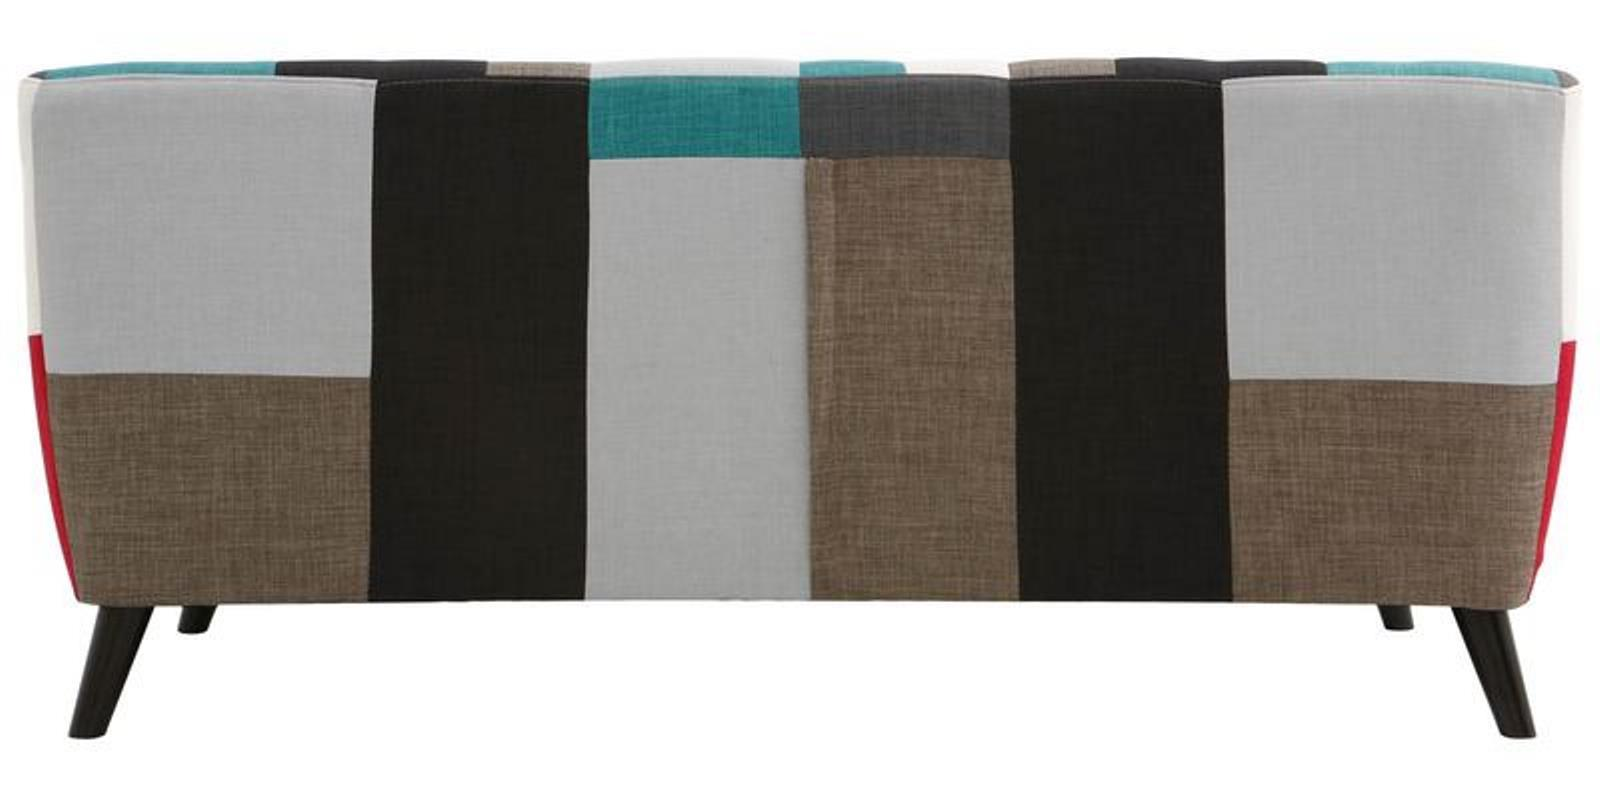Frida Three Seater Sofa in Red Multi Colour by CasaCraft: (10, 45, 1584, 781)
